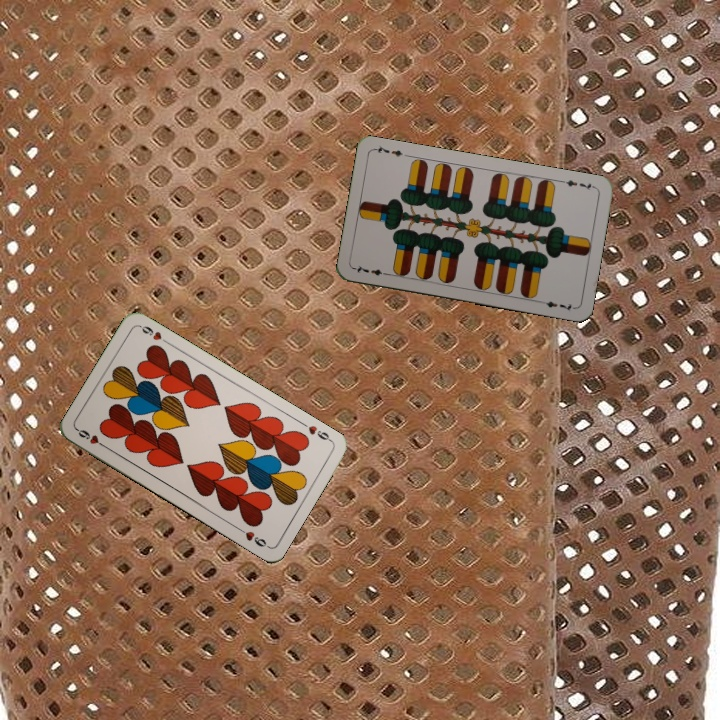E7: (351, 261, 391, 278), (557, 176, 598, 192)
H9: (73, 425, 110, 451), (298, 418, 335, 444)
